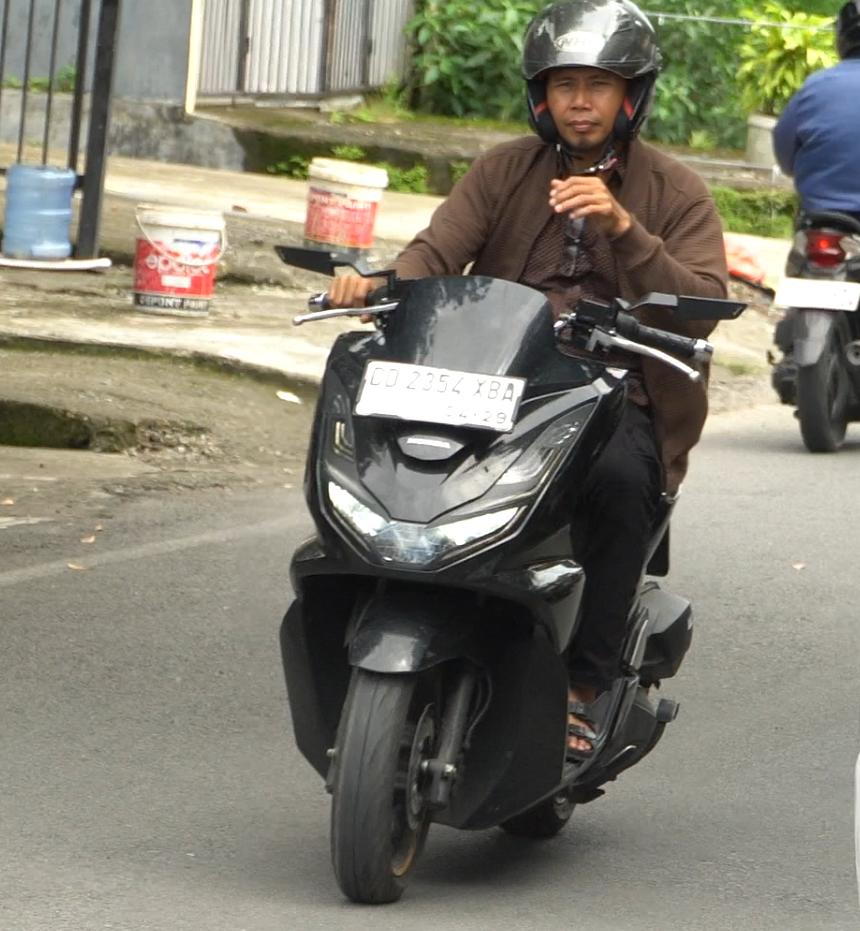number-plate: (360, 356, 525, 442)
